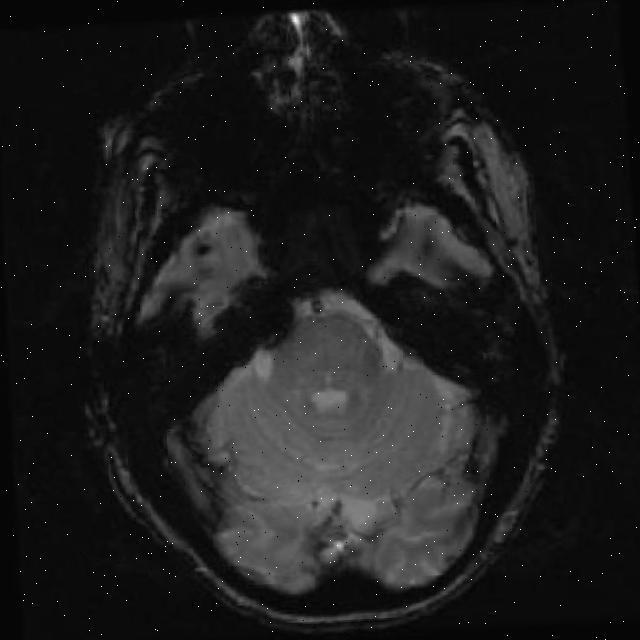EMCI: (158, 282, 295, 381), (377, 262, 495, 372)
